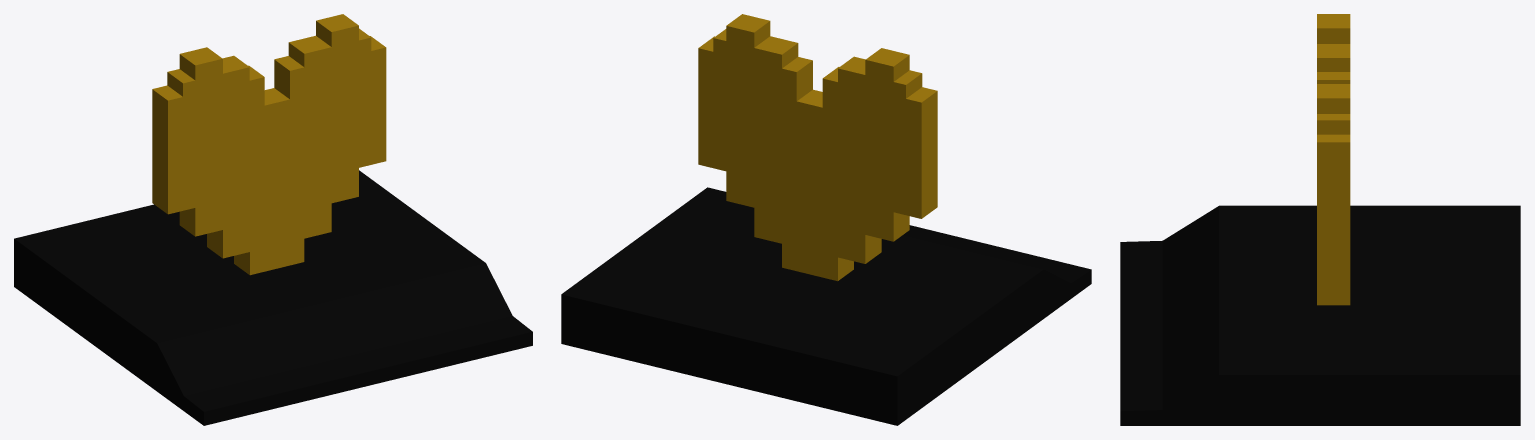
3 views of the same model, side by side, from view 1: azimuth 30°, elevation 25°; view 2: azimuth 150°, elevation 25°; view 3: azimuth 270°, elevation 25° (orthographic). The views are drawn at different scales.
Visible parts, largest first — view 1: base.018, 2; view 2: base.018, 2; view 3: base.018, 2.
Part boxes in pixels (x1,y1,x2,y2): base.018: [14, 170, 532, 425]; 2: [152, 14, 386, 275]; base.018: [561, 187, 1091, 425]; 2: [698, 14, 937, 281]; base.018: [1120, 205, 1520, 425]; 2: [1317, 14, 1350, 305].
Bounding box in the file's own units: 79.88 × 63.04 × 79.88.
